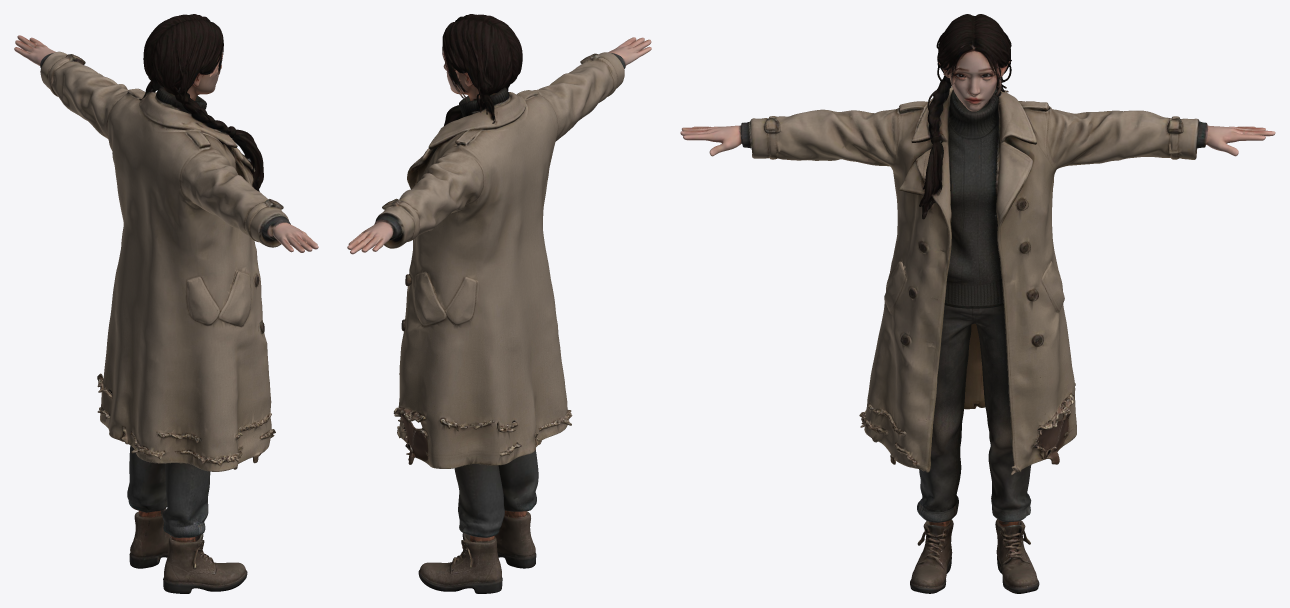
The picture shows the model from 3 angles, left to right: view 1: azimuth 30°, elevation 25°; view 2: azimuth 150°, elevation 25°; view 3: azimuth 270°, elevation 25°; orthographic projection.
Parts seen in each view (by area): view 1: tripo_node_a3a8fc05-5139-4d3e-8fed-3a2c4f95da52; view 2: tripo_node_a3a8fc05-5139-4d3e-8fed-3a2c4f95da52; view 3: tripo_node_a3a8fc05-5139-4d3e-8fed-3a2c4f95da52.
Boxes of the visible parts, x1,y1,x2,y2 form: tripo_node_a3a8fc05-5139-4d3e-8fed-3a2c4f95da52: (14,14,318,593); tripo_node_a3a8fc05-5139-4d3e-8fed-3a2c4f95da52: (347,14,651,593); tripo_node_a3a8fc05-5139-4d3e-8fed-3a2c4f95da52: (680,14,1275,593).
Size of the model in its own units: 0.2589 by 1 by 0.9578.
Materials: 1 (1 with a texture image).
